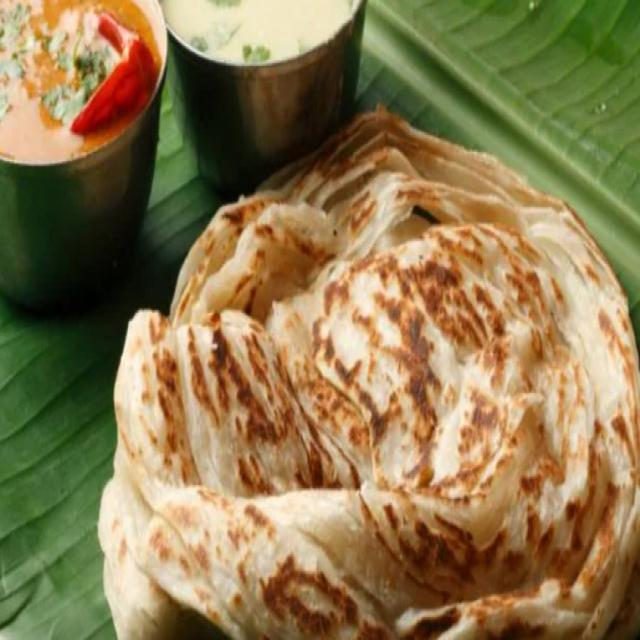CURRY: (0, 0, 163, 165)
PAROTTA: (97, 103, 639, 638)
